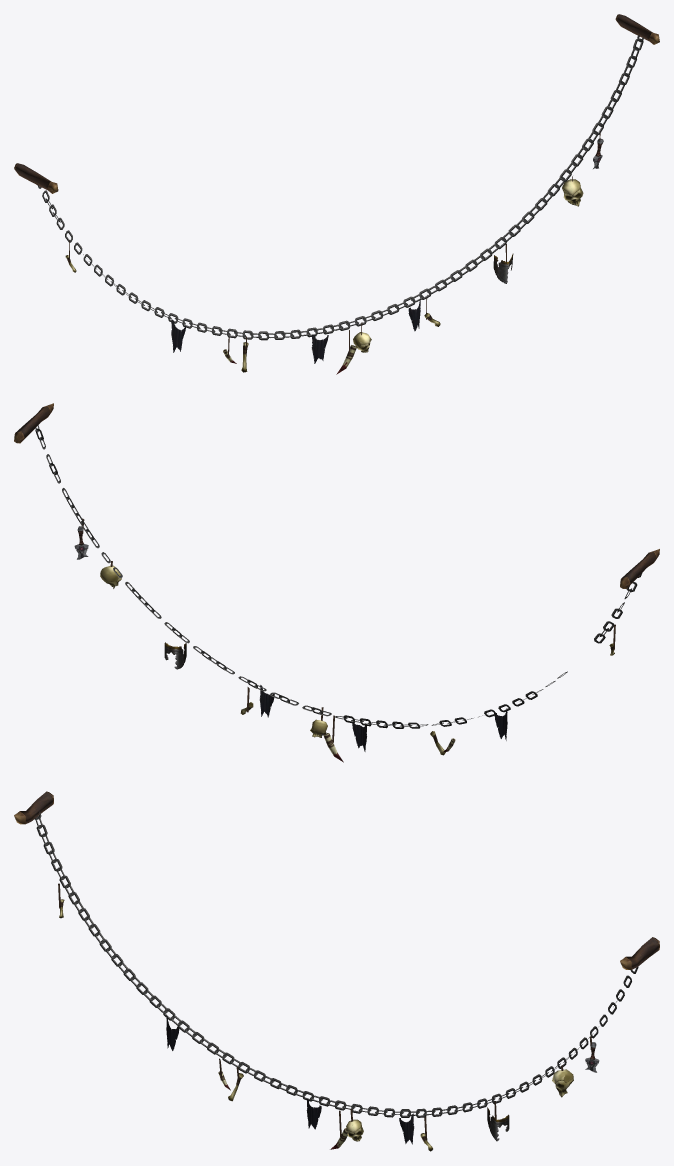
Rendered from chain_three.fbx.
3 renders of one model, top to bottom at view 1: azimuth 30°, elevation 25°; view 2: azimuth 150°, elevation 25°; view 3: azimuth 330°, elevation 25°, orthographic.
Parts seen in each view (by area): view 1: chain_three-0; view 2: chain_three-0; view 3: chain_three-0.
Part boxes in pixels (x1,y1,x2,y2): chain_three-0: (14,14,659,374); chain_three-0: (14,403,659,762); chain_three-0: (14,791,659,1151).
Bounding box in the file's own units: 12.56 × 5.35 × 1.44.
